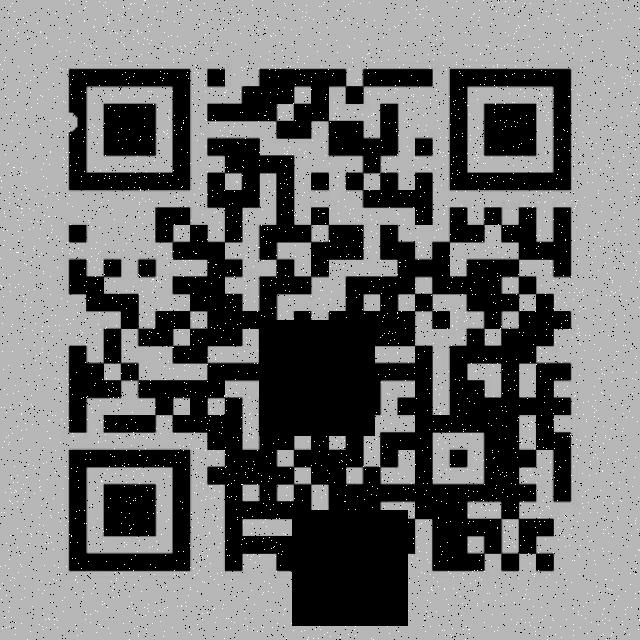QR_CODE: (49, 55, 594, 589)
